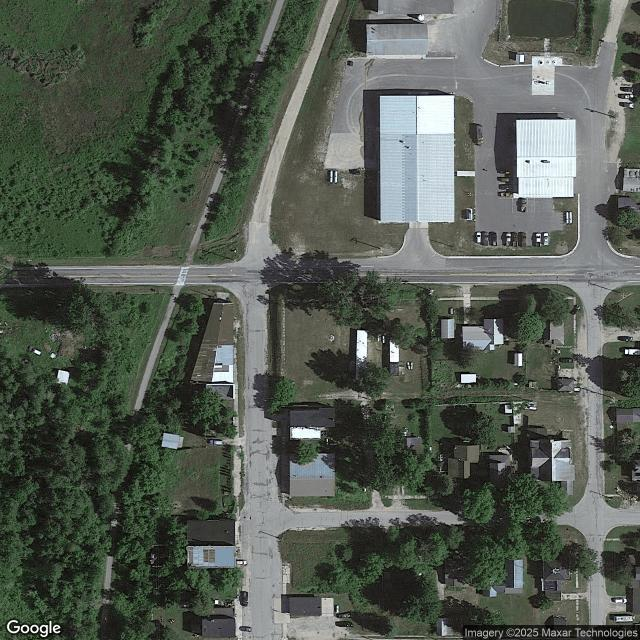Propane: (334, 171, 338, 184), (406, 361, 411, 370), (330, 171, 333, 183), (566, 212, 569, 224), (569, 212, 572, 224), (336, 605, 339, 613), (410, 362, 413, 370), (529, 407, 537, 410), (382, 336, 385, 343), (377, 335, 380, 341)
